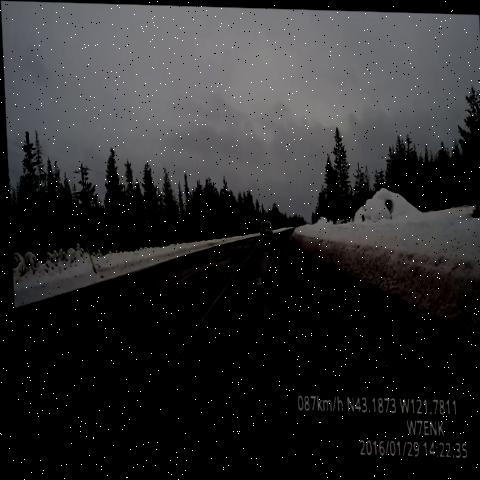pothole: (207, 334, 232, 381), (236, 265, 267, 300)
